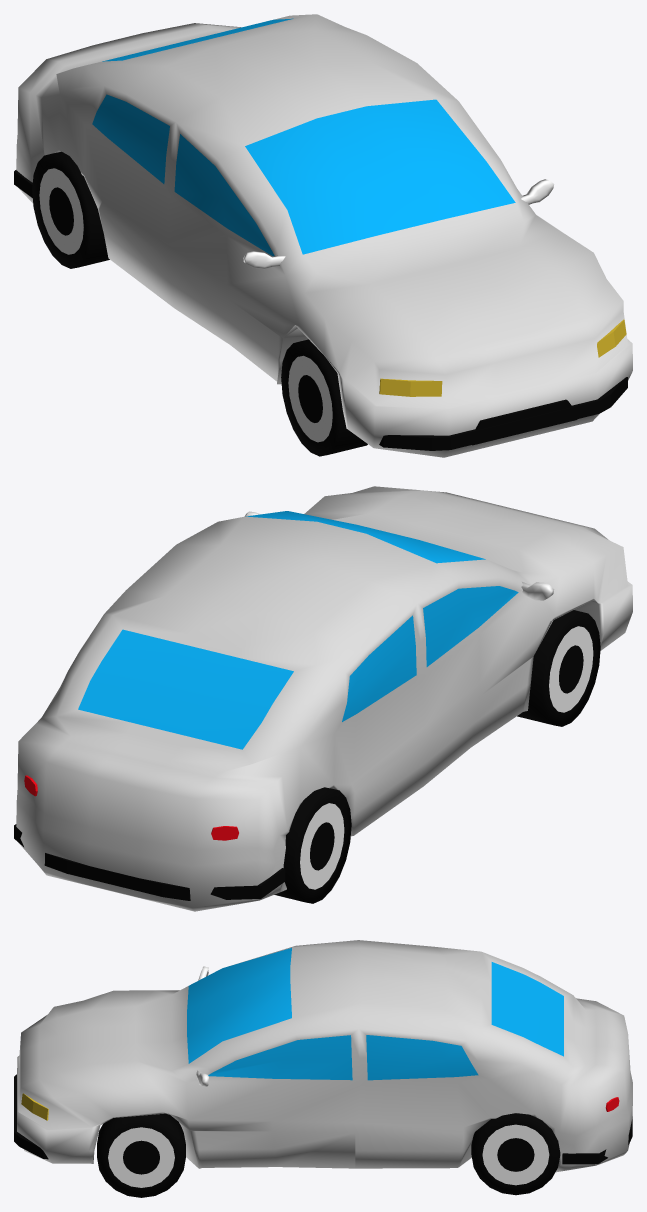
File: sedan.fbx
3 renders of one model, top to bottom at view 1: azimuth 30°, elevation 25°; view 2: azimuth 150°, elevation 25°; view 3: azimuth 270°, elevation 25°, orthographic. The views are drawn at different scales.
Parts seen in each view (by area): view 1: car5, wheelBR, wheelFR, carBumper, parts, mirrors; view 2: car5, wheelFR, wheelBR, carBumper; view 3: car5, wheelFL, wheelBL, carBumper, parts.
Part boxes in pixels (x1,y1,x2,y2): car5: (16,14,632,457); wheelBR: (32,151,109,268); wheelFR: (281,339,367,456); carBumper: (14,170,627,450); parts: (379,319,626,445); mirrors: (243,179,554,269); car5: (16,486,632,911); wheelFR: (517,610,600,726); wheelBR: (274,787,351,903); carBumper: (14,824,285,900); car5: (17,940,632,1172); wheelFL: (97,1113,185,1197); wheelBL: (471,1113,560,1195); carBumper: (14,1074,632,1164); parts: (14,1082,619,1121).
Size of the model in its own units: 429 by 322 by 990.
